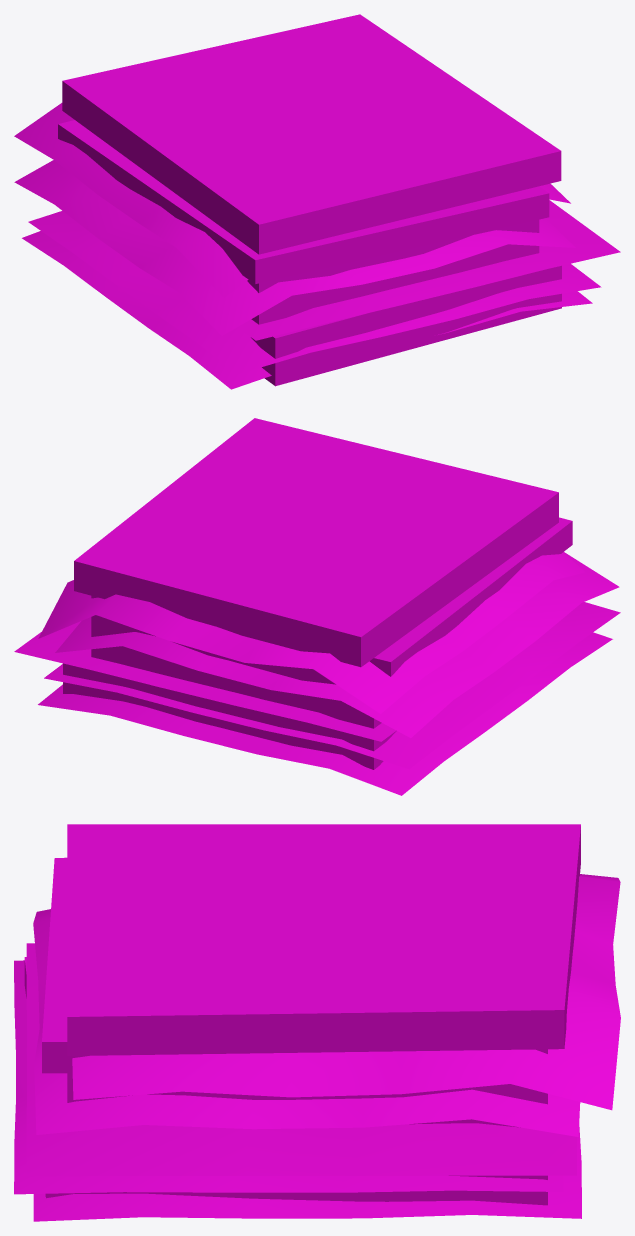
Rendered from paper_stack_2.fbx.
The picture shows the model from 3 angles, top to bottom: view 1: azimuth 30°, elevation 25°; view 2: azimuth 150°, elevation 25°; view 3: azimuth 270°, elevation 25°; orthographic projection. The views are drawn at different scales.
Visible parts, largest first — view 1: Stack_of_Papers_2; view 2: Stack_of_Papers_2; view 3: Stack_of_Papers_2.
Part boxes in pixels (x1=…): Stack_of_Papers_2: x1=14, y1=14, x2=620, y2=389; Stack_of_Papers_2: x1=14, y1=418, x2=620, y2=795; Stack_of_Papers_2: x1=14, y1=824, x2=620, y2=1221.
Size of the model in its own units: 0.6339 by 0.2275 by 0.641.
